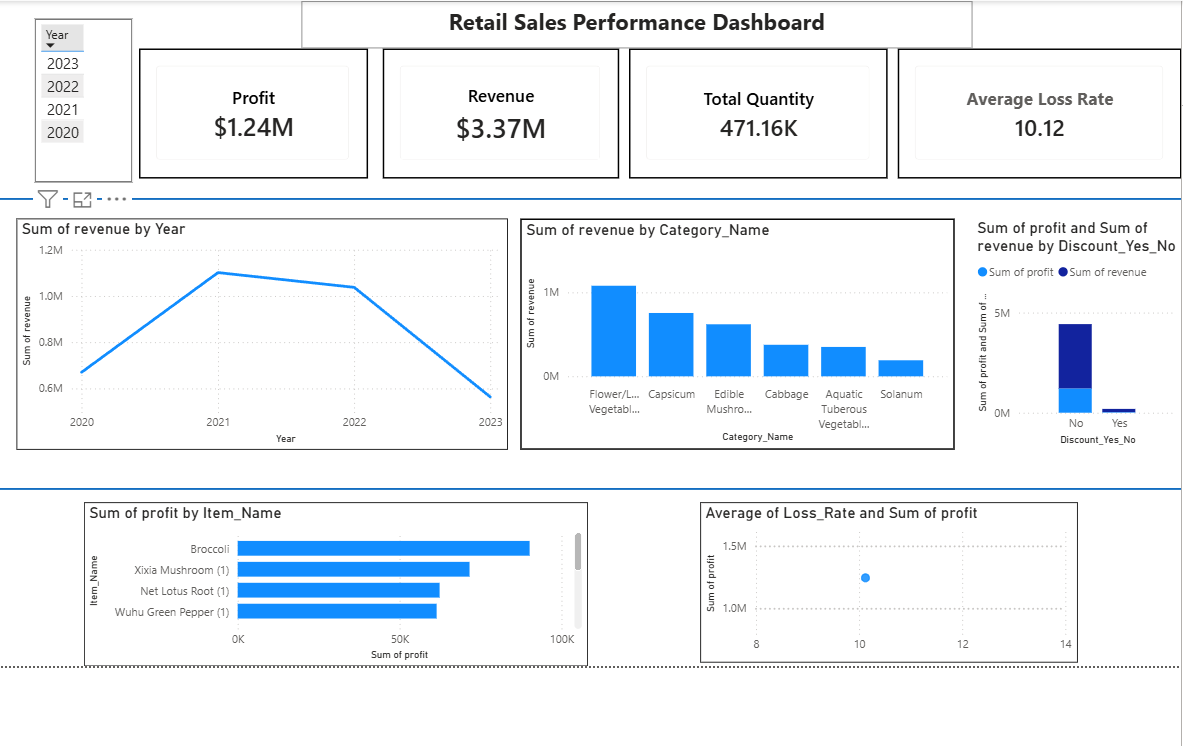

Layout of this report page (visuals, bound fields, positions):
{"tool":"powerbi","page":{"name":"Page 1","canvas":[1280,720],"ordinal":0},"visuals":[{"type":"shape","box":[0,196.7,1280.3,36.2],"z":0},{"type":"shape","box":[0,510.7,1280.3,36.2],"z":1000},{"type":"tableEx","fields":{"Values":["cleaning_analysis.Date.Variation.Date Hierarchy.Year"]},"box":[37.9,18.9,106.9,177.3],"z":2000},{"type":"cardVisual","fields":{"Data":["cleaning_analysis.Total_Profit"]},"box":[151.6,51.4,247.7,140.7],"z":3000},{"type":"cardVisual","fields":{"Data":["cleaning_analysis.Total_Revenue"]},"box":[415.5,51.4,255.8,140.7],"z":4000},{"type":"cardVisual","fields":{"Data":["cleaning_analysis.Total_Qnautity_Sold"]},"box":[682.1,51.4,280.1,140.7],"z":5000},{"type":"cardVisual","fields":{"Data":["cleaning_analysis.Avrg_Loss_Rate"]},"box":[973.1,51.4,307.2,140.7],"z":6000},{"type":"lineChart","fields":{"Category":["cleaning_analysis.Date.Variation.Date Hierarchy.Year","cleaning_analysis.Date.Variation.Date Hierarchy.Quarter","cleaning_analysis.Date.Variation.Date Hierarchy.Month","cleaning_analysis.Date.Variation.Date Hierarchy.Day"],"Y":["Sum(cleaning_analysis.revenue)"]},"box":[18.8,235.8,532.4,250.3],"z":7000},{"type":"columnChart","fields":{"Category":["cleaning_analysis.Category_Name"],"Y":["Sum(cleaning_analysis.revenue)"]},"box":[564.2,235.8,470.2,250.3],"z":8000},{"type":"barChart","fields":{"Category":["cleaning_analysis.Item_Name"],"Y":["Sum(cleaning_analysis.profit)"]},"box":[92,542.7,545.4,177.3],"z":9000},{"type":"columnChart","fields":{"Category":["cleaning_analysis.Discount_Yes_No"],"Y":["Sum(cleaning_analysis.profit)","Sum(cleaning_analysis.revenue)"]},"box":[1054.6,235.8,225.7,250.3],"z":10000},{"type":"scatterChart","fields":{"X":["Avg(cleaning_analysis.Loss_Rate)"],"Y":["Sum(cleaning_analysis.profit)"]},"box":[759.2,542.7,408.7,173.2],"z":11000},{"type":"textbox","box":[327.5,0,726.8,51.4],"z":11001}]}

Visuals, with their boxes in screenshot pixels (x1, y1, x2, y2):
shape: BBox(6, 179, 1173, 212)
shape: BBox(6, 465, 1173, 498)
tableEx - cleaning_analysis.Date.Variation.Date Hierarchy.Year: BBox(41, 17, 138, 179)
cardVisual - cleaning_analysis.Total_Profit: BBox(144, 47, 370, 175)
cardVisual - cleaning_analysis.Total_Revenue: BBox(385, 47, 618, 175)
cardVisual - cleaning_analysis.Total_Qnautity_Sold: BBox(628, 47, 883, 175)
cardVisual - cleaning_analysis.Avrg_Loss_Rate: BBox(893, 47, 1173, 175)
lineChart - cleaning_analysis.Date.Variation.Date Hierarchy.Year x cleaning_analysis.Date.Variation.Date Hierarchy.Quarter: BBox(23, 215, 509, 443)
columnChart - cleaning_analysis.Category_Name x Sum(cleaning_analysis.revenue): BBox(520, 215, 949, 443)
barChart - cleaning_analysis.Item_Name x Sum(cleaning_analysis.profit): BBox(90, 495, 587, 656)
columnChart - cleaning_analysis.Discount_Yes_No x Sum(cleaning_analysis.profit): BBox(967, 215, 1173, 443)
scatterChart - Avg(cleaning_analysis.Loss_Rate) x Sum(cleaning_analysis.profit): BBox(698, 495, 1071, 652)
textbox: BBox(305, 0, 967, 47)
